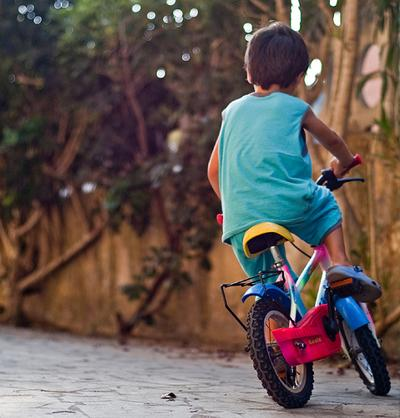person: (207, 24, 382, 382)
